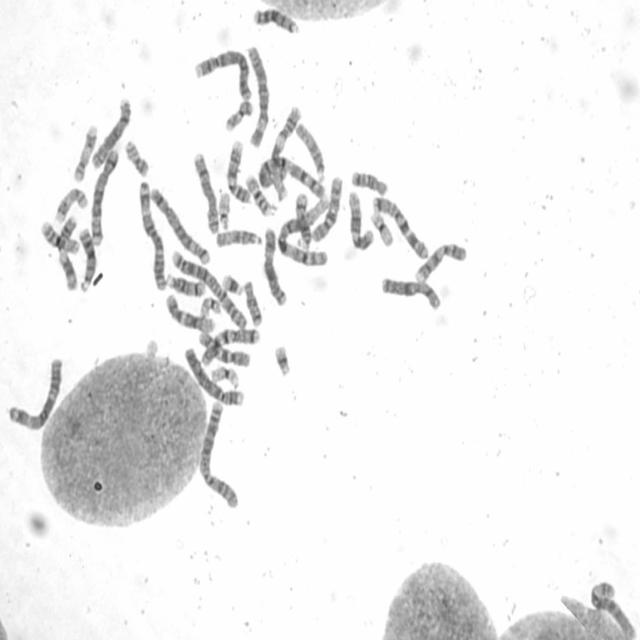A1: (276, 194, 331, 268), (258, 154, 327, 205)
A2: (169, 247, 249, 330), (198, 397, 241, 510)
A3: (6, 354, 64, 432), (136, 177, 168, 292)
B4: (182, 342, 246, 408), (192, 46, 254, 100)
B5: (148, 182, 212, 266), (88, 144, 120, 247)
C10: (310, 172, 344, 244), (198, 329, 252, 371)
C11: (269, 102, 302, 181), (57, 212, 78, 293)
C12: (162, 290, 216, 334), (346, 187, 375, 252)
C6: (588, 576, 637, 639), (244, 42, 271, 150)
C7: (368, 192, 431, 262), (198, 323, 262, 368)
C8: (89, 94, 132, 171), (191, 148, 220, 237)
C9: (412, 238, 470, 286), (225, 137, 251, 204)
D13: (251, 4, 299, 35), (76, 224, 96, 292)
D14: (293, 189, 312, 251), (164, 271, 206, 298)
D15: (294, 120, 327, 182), (213, 226, 264, 250)
E16: (38, 220, 81, 258), (243, 170, 274, 218)
E17: (70, 122, 98, 183), (52, 184, 89, 226)
E18: (348, 167, 389, 197), (241, 277, 264, 328)
F19: (368, 208, 394, 249), (209, 362, 241, 390)
F20: (222, 98, 254, 133), (123, 137, 150, 178)
G21: (272, 341, 292, 377), (220, 270, 244, 298)
G22: (216, 188, 232, 232), (200, 294, 221, 320)
X: (378, 272, 442, 312), (260, 223, 288, 308)
